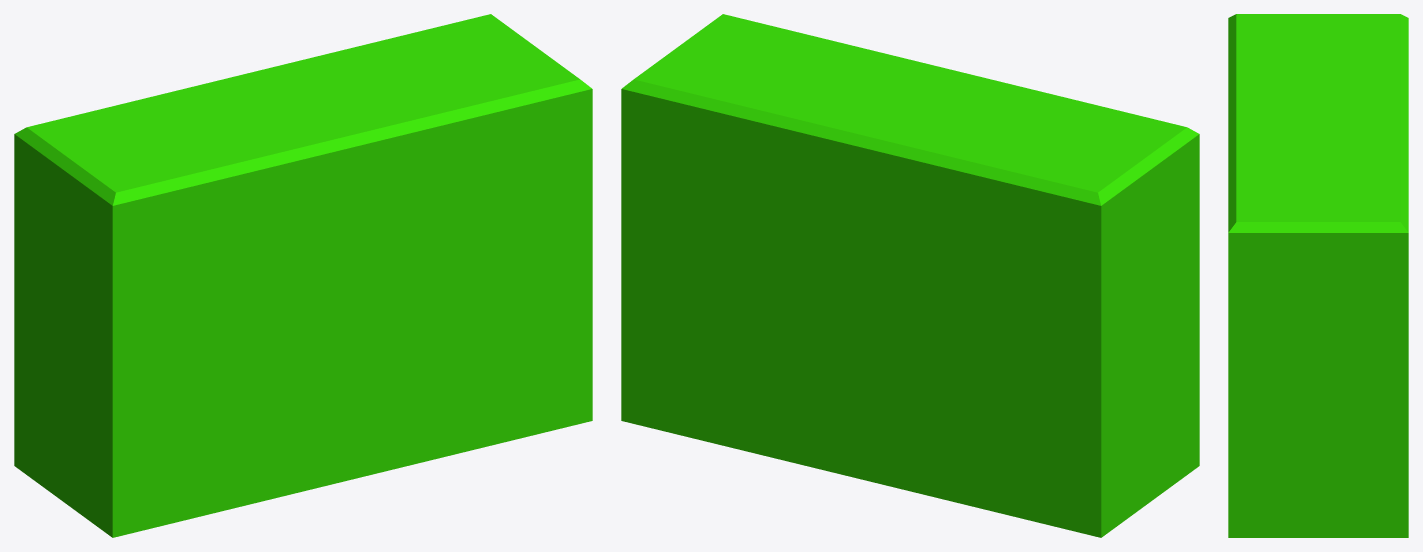
The model's file is basic_3x2.fbx.
3 views of the same model, side by side, from view 1: azimuth 30°, elevation 25°; view 2: azimuth 150°, elevation 25°; view 3: azimuth 270°, elevation 25° (orthographic). The views are drawn at different scales.
Visible parts, largest first — view 1: basic_3x2; view 2: basic_3x2; view 3: basic_3x2.
Boxes of the visible parts, left/top/right/bottom form: basic_3x2: left=14, top=14, right=592, bottom=537; basic_3x2: left=621, top=14, right=1199, bottom=537; basic_3x2: left=1228, top=14, right=1408, bottom=537.
Size of the model in its own units: 310 by 210 by 110.
